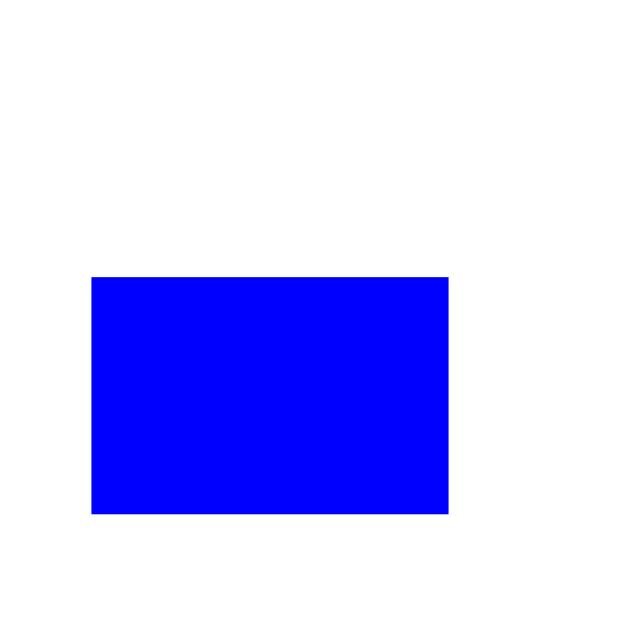Rectangle: (70, 250, 497, 549)
